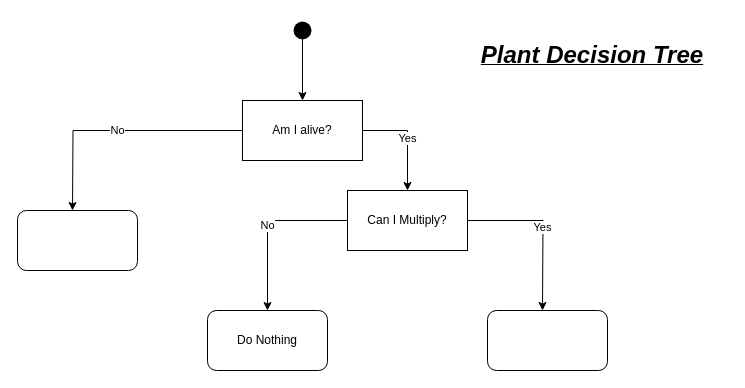
The diagram is 745 pixels wide and 388 high, and some of its shapes have lost their labels. Each missing label, with the centre of its shape:
Delete Organism: (x=77, y=240)
Spawn New Plant: (x=547, y=340)
